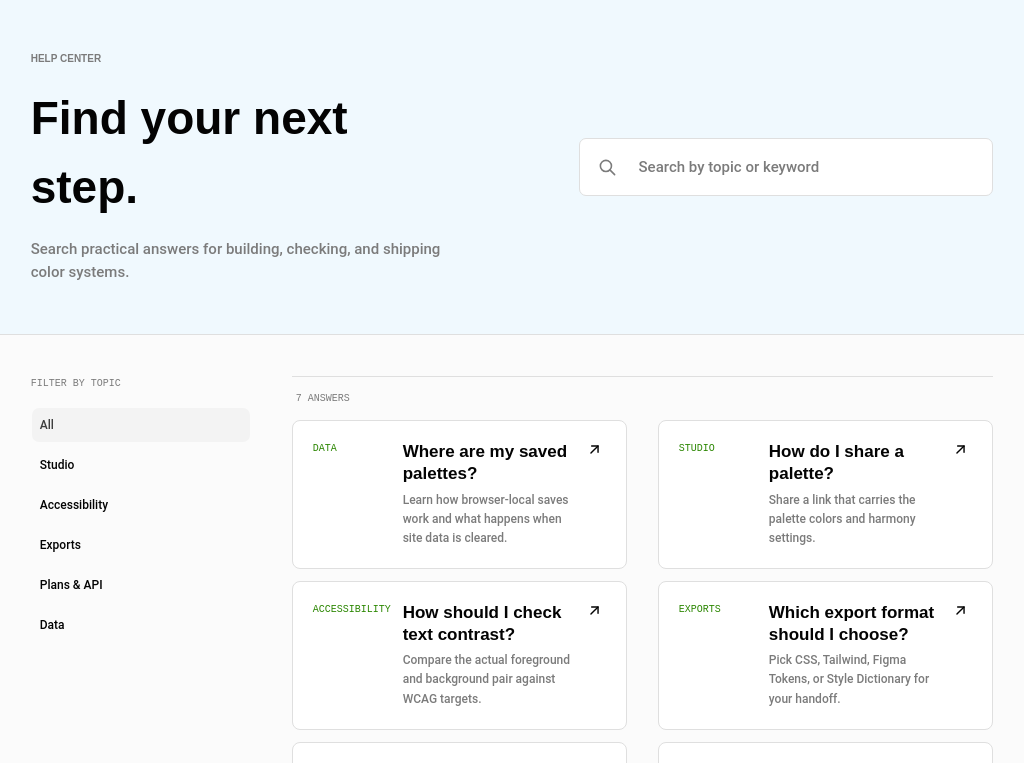
Test: marketing pricing › filters self-service help by search and topic
Expected: the heading "Find your next step." is shown, [31,84,363,222]
Step 1. Type "contrast" into the search field named "Search help topics" → (801, 167), box [628,145,974,189]
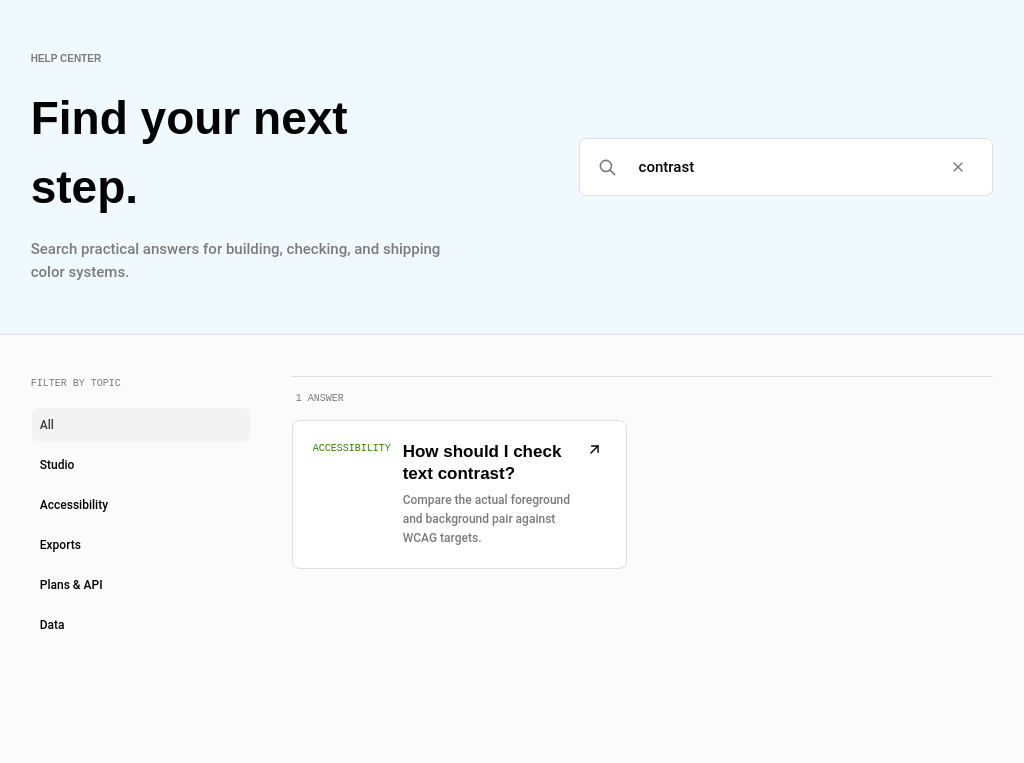
Expected: the link "How should I check text contrast" is shown, [292,420,627,569]
Expected: the link "Where are my saved palettes" is gone
Step 2. Click the button "Plans & API" → (141, 585), box [31,567,251,603]
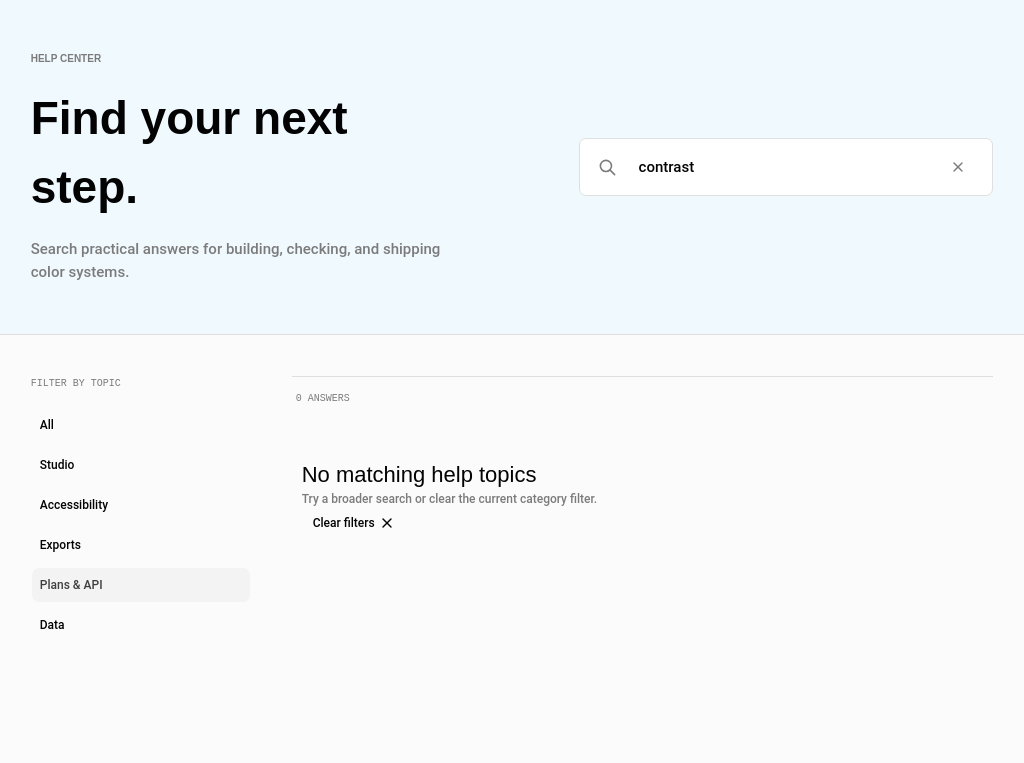
Expected: the heading "No matching help topics" is shown, [302,462,536,487]
Step 3. Click the button "Clear filters" → (354, 523), box [302,507,406,539]
(page scrolled)
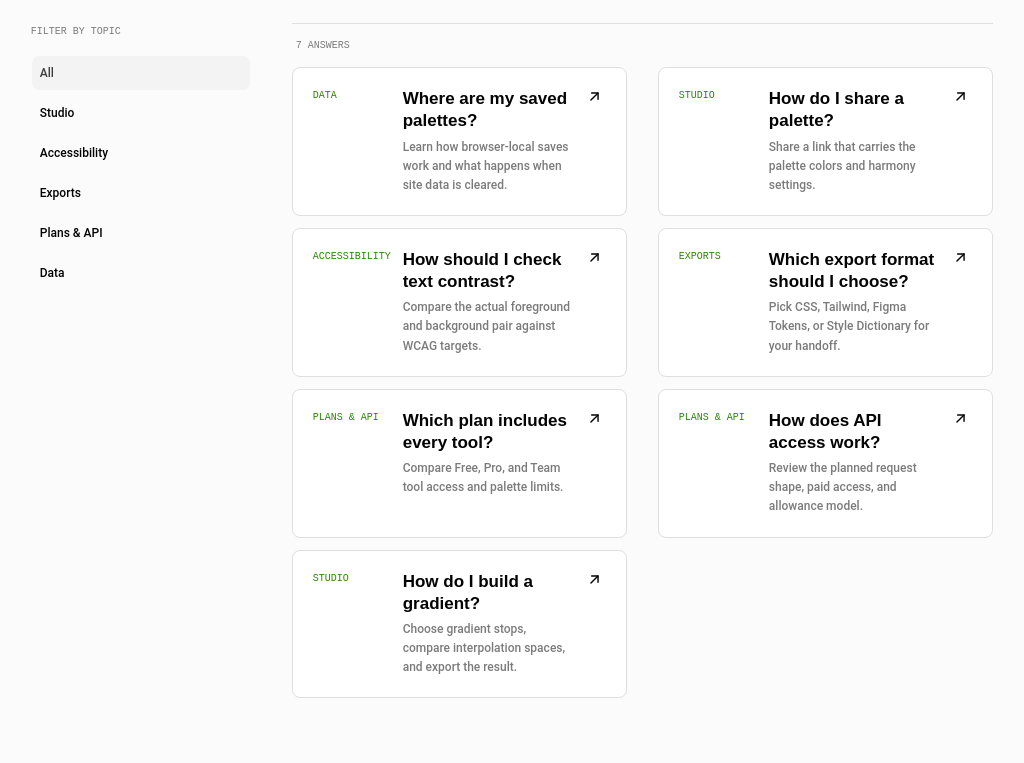
Expected: the link "How does API access work" is shown, [658,389,993,538]
